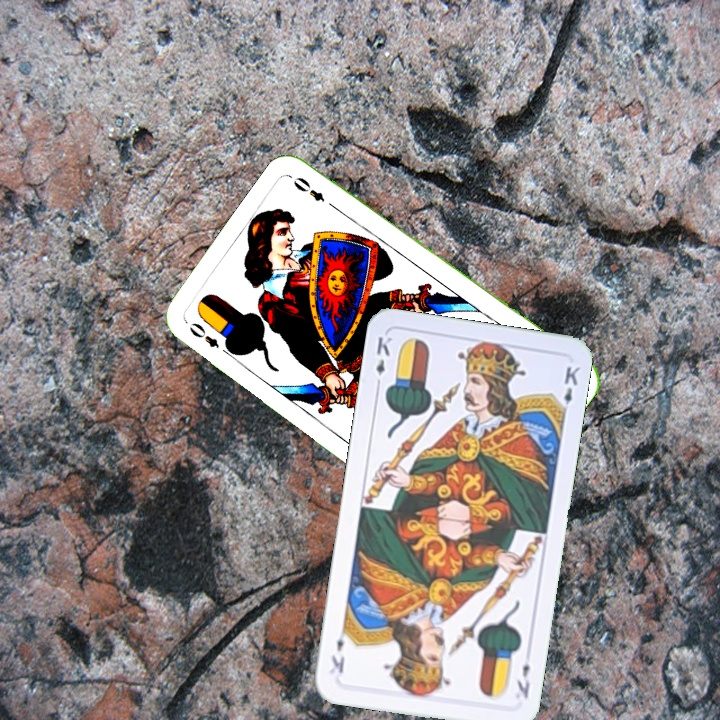EK: (371, 332, 394, 391), (512, 659, 533, 701)
EO: (185, 318, 235, 359)
